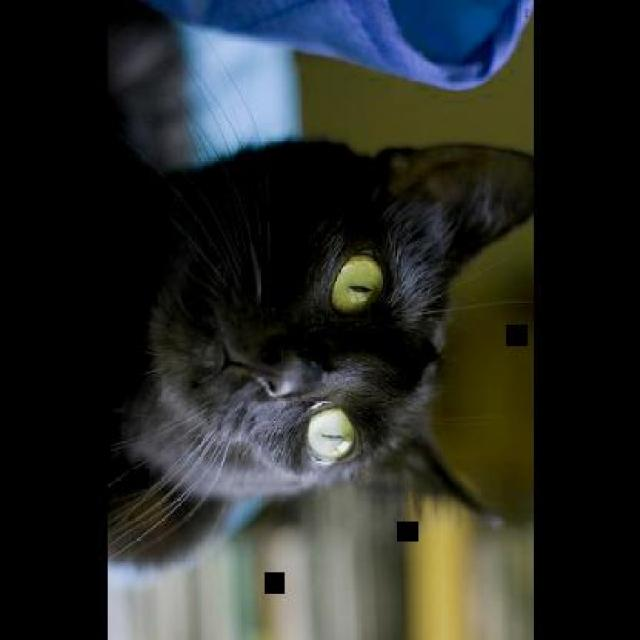unauthorized: (105, 126, 532, 571)
